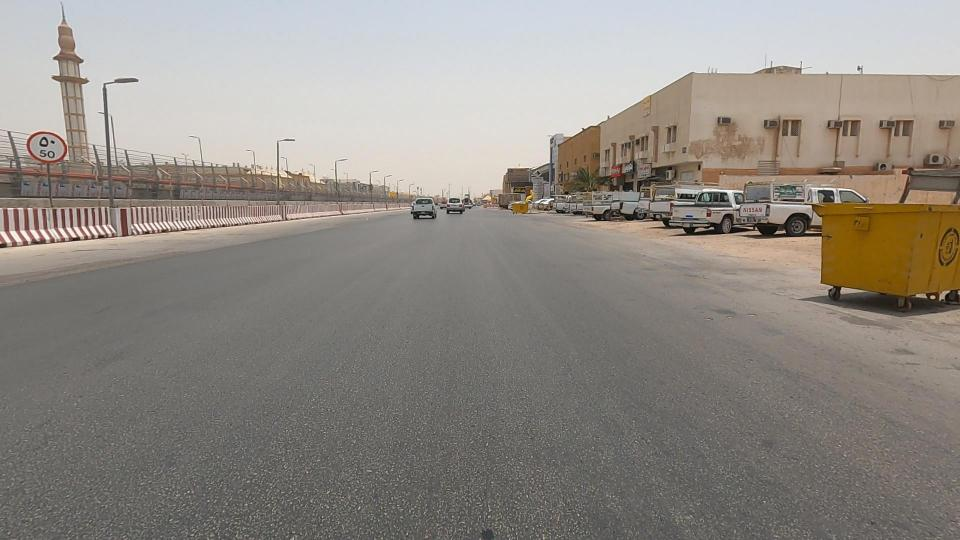CONSTRUCTION_ROAD: (0, 127, 230, 279), (114, 135, 296, 263), (211, 149, 411, 244)
